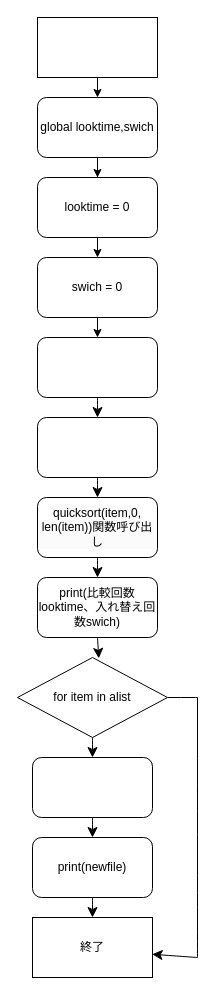
This 216x995 diagram has some shape labels left out. The shapes that lost their labels are listed below. From the top down, each one's centre as x and y in pixels, then its label:
point 97,47: outout(list,newfile)関数 開始
point 97,367: alist = quicksort(list,0,len(list))
point 97,447: f = open(newfile,"w")
point 92,787: f.write(number,name, score)
